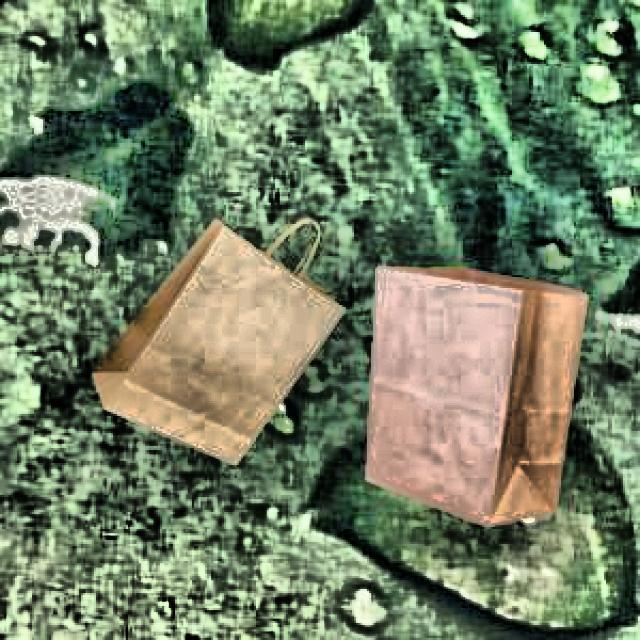Paper-bag: (347, 244, 607, 549), (80, 196, 349, 486)
